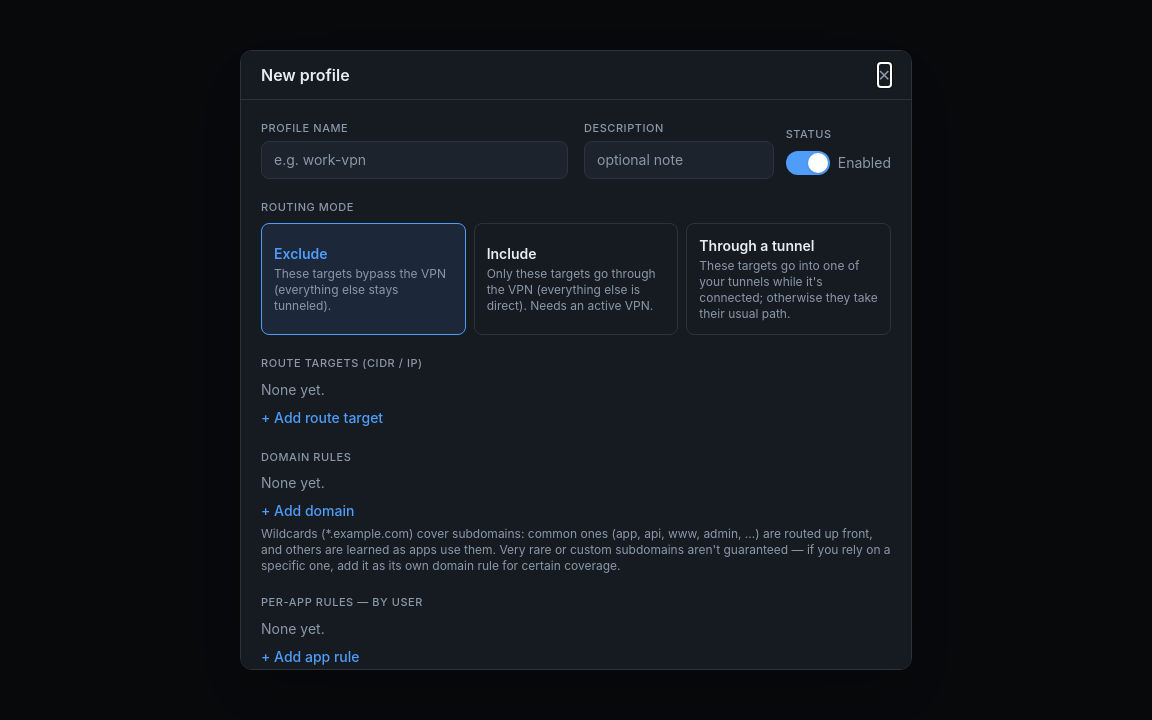
Test: ProfileBuilder › blocks apply when app rules are used in exclude mode
In the field with placeholder "e.g. work-vpn": (414, 160) x1=261 y1=141 x2=568 y2=179, type "work"
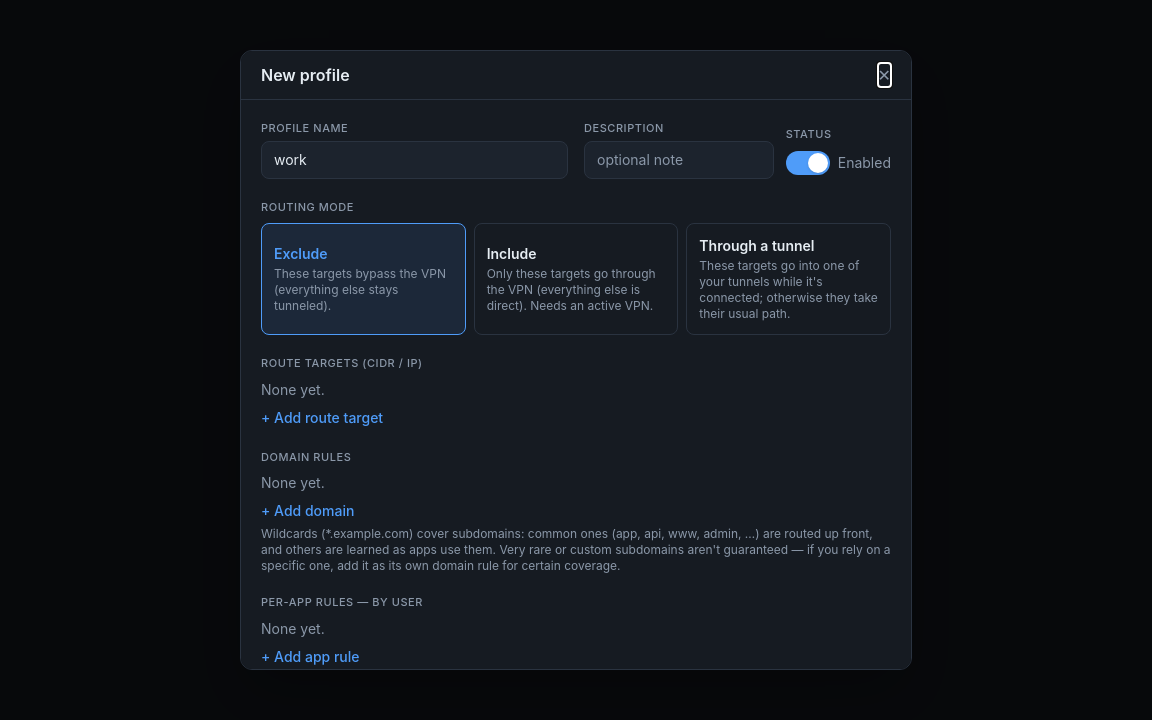
Click the text "Include": (512, 254) x1=487 y1=245 x2=537 y2=262
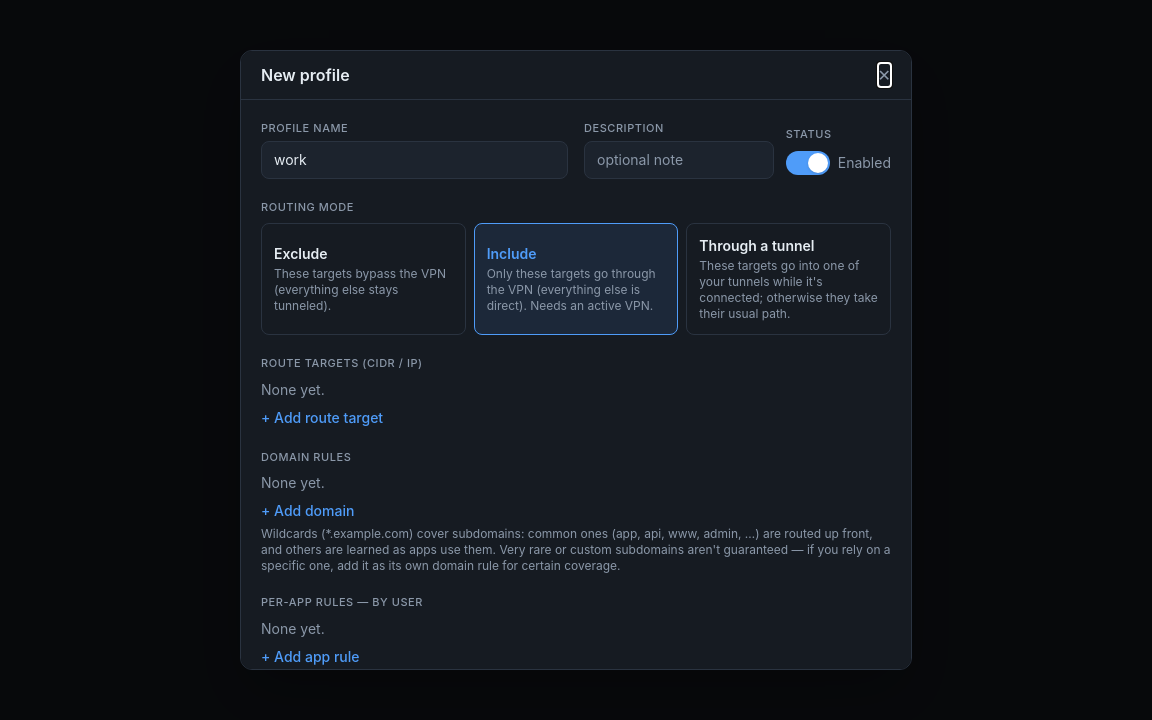
Click the button "+ Add app rule": (310, 657) x1=261 y1=647 x2=360 y2=667
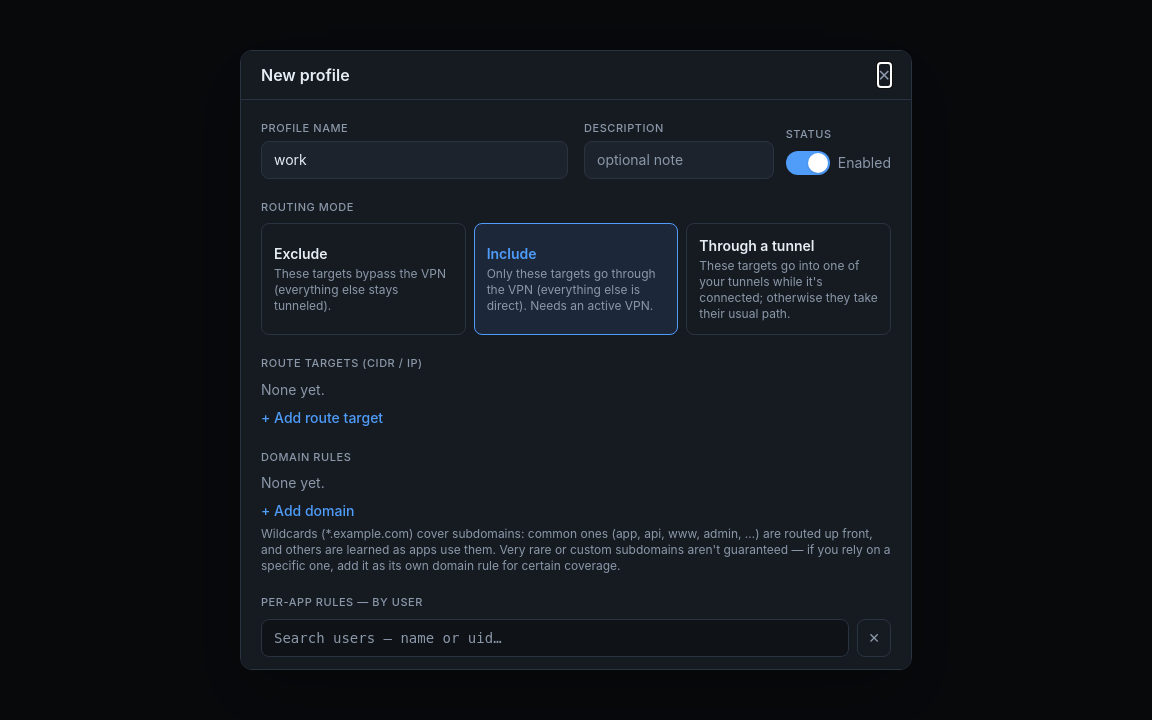
In the dropdown named "App rule value": (555, 638) x1=261 y1=619 x2=849 y2=657, type "501"
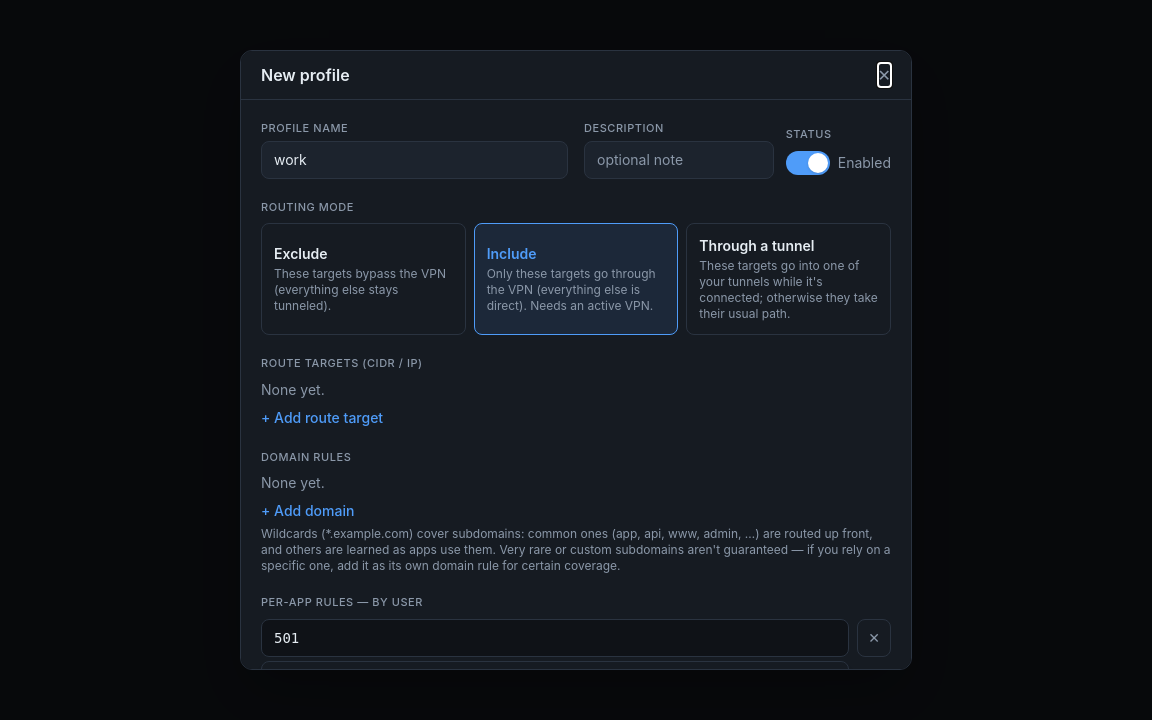
Click the text "Exclude": (301, 254) x1=274 y1=245 x2=328 y2=262
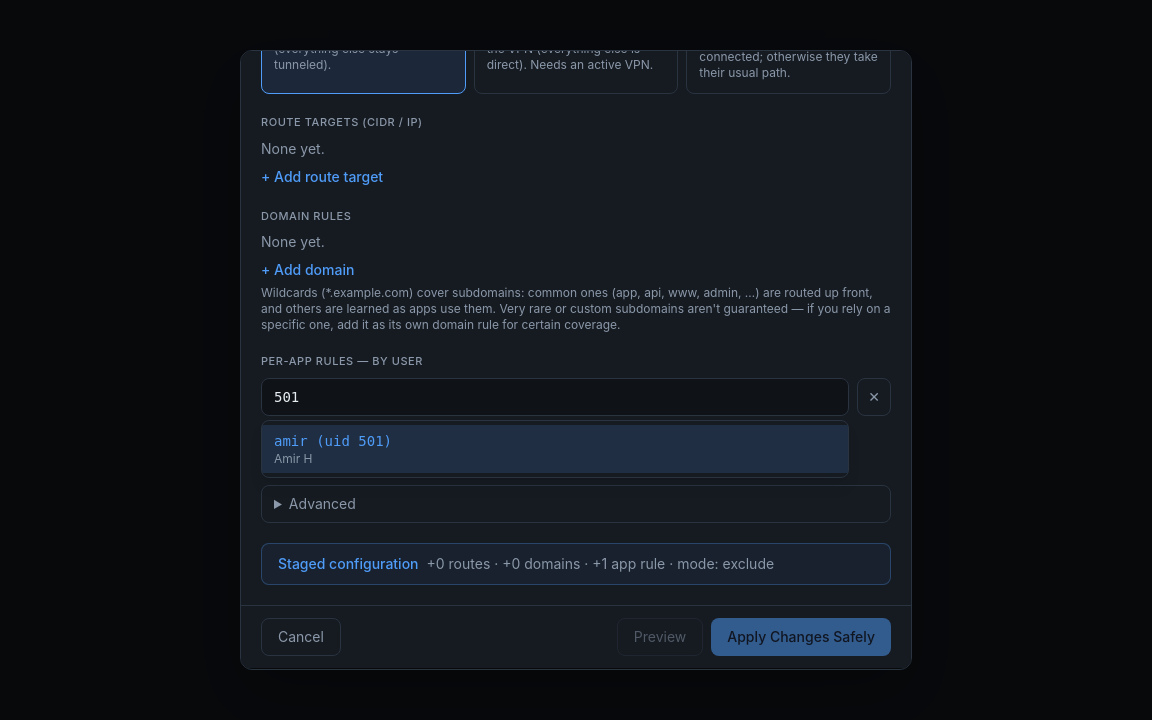
Check: the text "only take effect in Include mode" is shown, box x1=261 y1=449 x2=731 y2=464
Check: the button "Apply Changes Safely" is disabled, box x1=711 y1=618 x2=891 y2=656
